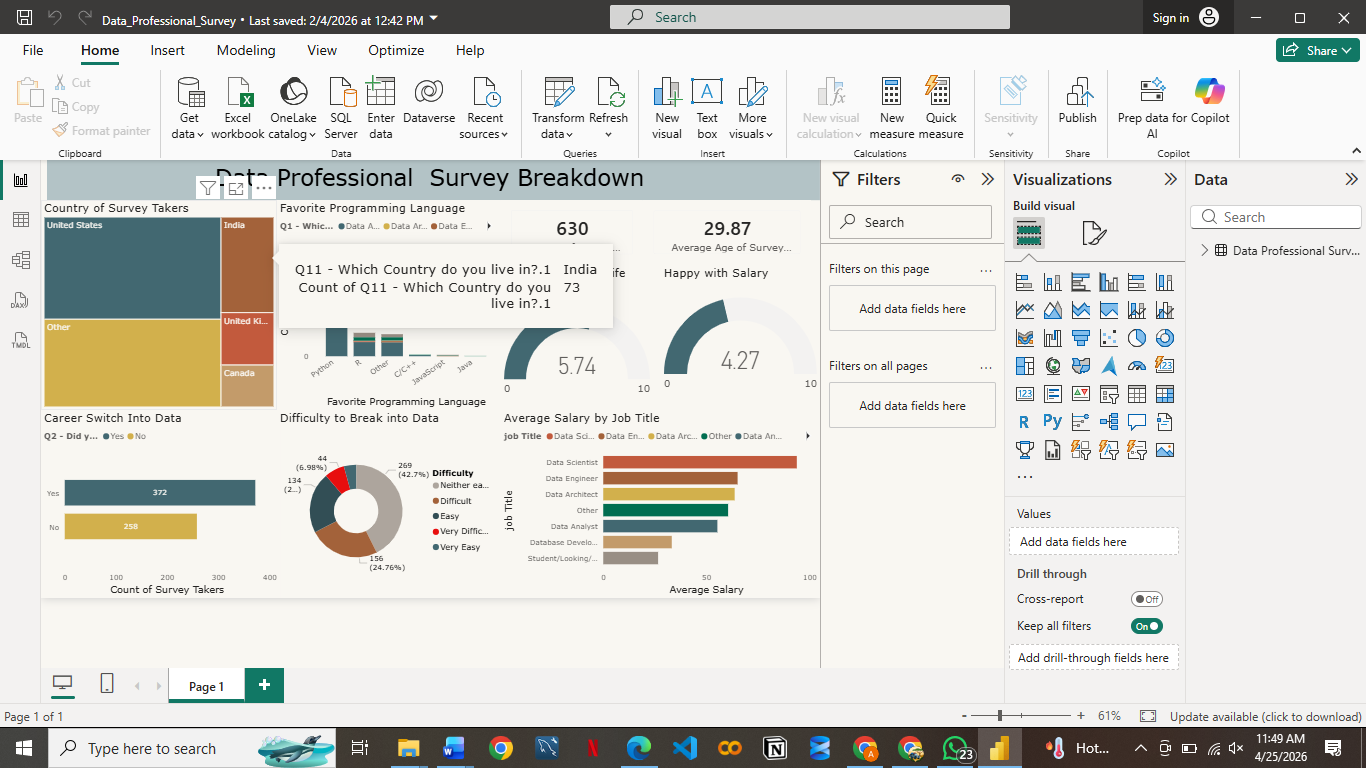

This screenshot's page, from the dashboard's own definition file:
{"tool":"powerbi","page":{"name":"Page 1","canvas":[1280,720],"ordinal":0},"visuals":[{"type":"textbox","box":[10.1,0,1269.9,65.5],"z":0},{"type":"cardVisual","fields":{"Data":["Count(Data Professional Survey.Unique ID)"]},"box":[755.8,65.7,233.3,106.8],"z":1000},{"type":"cardVisual","fields":{"Data":["Avg(Data Professional Survey.Q10 - Current Age)"]},"box":[989.2,65.7,276,106.8],"z":2000},{"type":"barChart","title":"Average Salary by Job Title","fields":{"Category":["Data Professional Survey.Q1 - Which Title Best Fits your Current Role?.1"],"Y":["Avg(Data Professional Survey.Average Salary)"],"Series":["Data Professional Survey.Q1 - Which Title Best Fits your Current Role?.1"]},"box":[755.8,410.8,524.2,308.9],"z":3000},{"type":"columnChart","title":"Favorite Programming Language","fields":{"Category":["Data Professional Survey.Q5 - Favorite Programming Language.1"],"Y":["Count(Data Professional Survey.Unique ID)"],"Series":["Data Professional Survey.Q1 - Which Title Best Fits your Current Role?.1"]},"box":[387.8,65.7,368.1,345.1],"z":4000},{"type":"gauge","title":"Happy with Work Life Balance","fields":{"Y":["Avg(Data Professional Survey.Q6 - How Happy are you in your Current Position with the following? (Work/Life Balance))"],"MinValue":["Min(Data Professional Survey.Q6 - How Happy are you in your Current Position with the following? (Work/Life Balance))1"],"MaxValue":["Max(Data Professional Survey.Q6 - How Happy are you in your Current Position with the following? (Work/Life Balance))2"]},"box":[755.8,172.5,249.8,238.3],"z":5000},{"type":"gauge","title":"Happy with Salary","fields":{"Y":["Avg(Data Professional Survey.Q6 - How Happy are you in your Current Position with the following? (Salary))"],"MinValue":["Min(Data Professional Survey.Q6 - How Happy are you in your Current Position with the following? (Salary))"],"MaxValue":["Max(Data Professional Survey.Q6 - How Happy are you in your Current Position with the following? (Salary))"]},"box":[1018.7,172.5,261.3,238.3],"z":6000},{"type":"donutChart","title":"Difficulty to Break into Data","fields":{"Category":["Data Professional Survey.Q7 - How difficult was it for you to break into Data?"],"Y":["CountNonNull(Data Professional Survey.Q7 - How difficult was it for you to break into Data?)"]},"box":[387.8,410.8,368.1,308.9],"z":7000},{"type":"barChart","title":"Career Switch Into Data","fields":{"Category":["Data Professional Survey.Q2 - Did you switch careers into Data?"],"Y":["Count(Data Professional Survey.Unique ID)"],"Series":["Data Professional Survey.Q2 - Did you switch careers into Data?"]},"box":[0,410.8,392.7,308.9],"z":8000},{"type":"treemap","title":"Country of Survey Takers","fields":{"Group":["Data Professional Survey.Q11 - Which Country do you live in?.1"],"Values":["CountNonNull(Data Professional Survey.Q11 - Which Country do you live in?.1)"]},"box":[0,65.7,387.8,345.1],"z":9000}]}

Visuals, with their boxes in screenshot pixels (x1, y1, x2, y2):
textbox: 32 0 1365 33
cardVisual - Count(Data Professional Survey.Unique ID): 817 34 1062 146
cardVisual - Avg(Data Professional Survey.Q10 - Current Age): 1062 34 1353 146
"Average Salary by Job Title" barChart: 817 397 1365 722
"Favorite Programming Language" columnChart: 429 34 817 397
"Happy with Work Life Balance" gauge: 817 146 1080 397
"Happy with Salary" gauge: 1093 146 1365 397
"Difficulty to Break into Data" donutChart: 429 397 817 722
"Career Switch Into Data" barChart: 21 397 435 722
"Country of Survey Takers" treemap: 21 34 429 397
